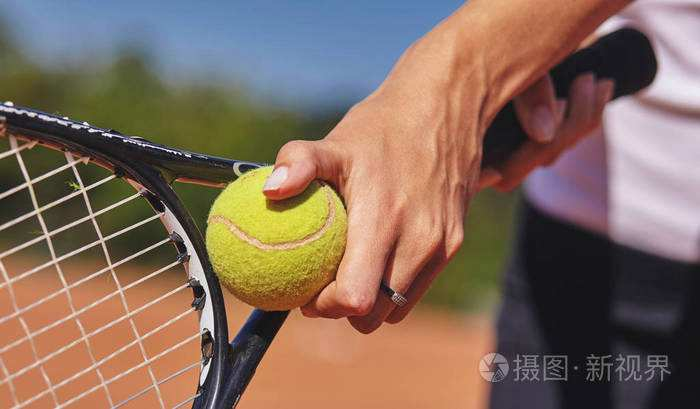no-phone: (203, 29, 480, 338)
